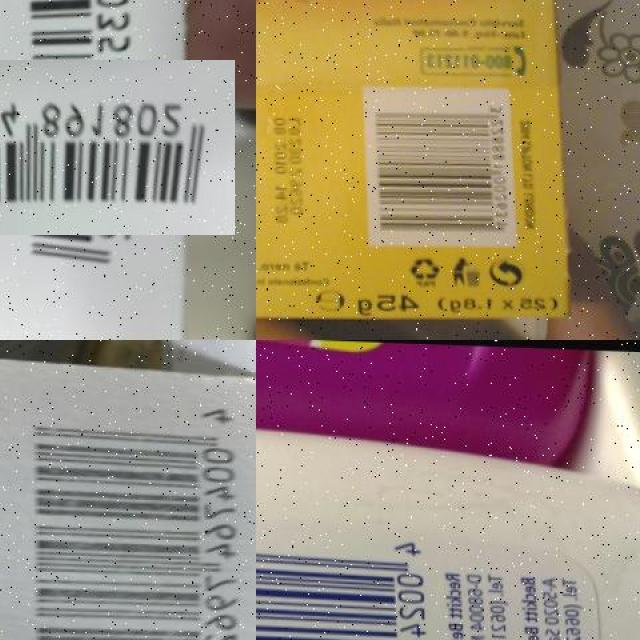Barcode: (13, 384, 256, 640), (0, 31, 204, 265), (364, 87, 517, 248), (256, 528, 440, 640)
